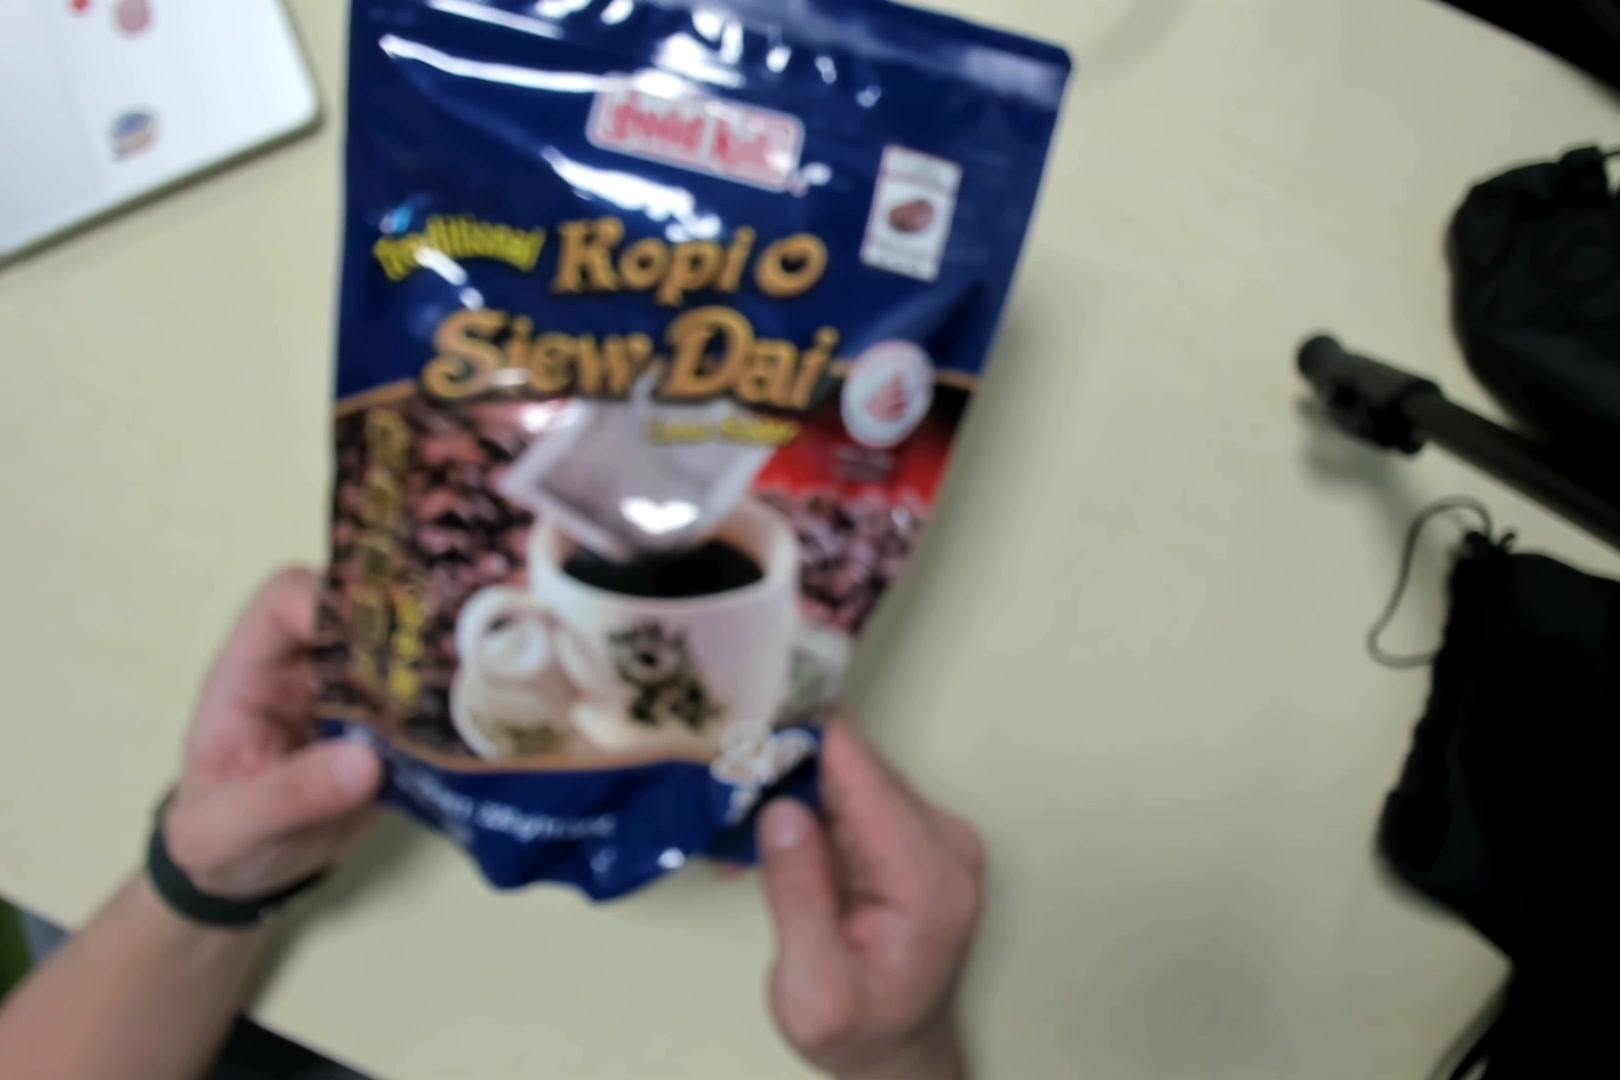Coffee(Powder)_300-399g_Halal_Healthy: (344, 1, 1057, 885)
